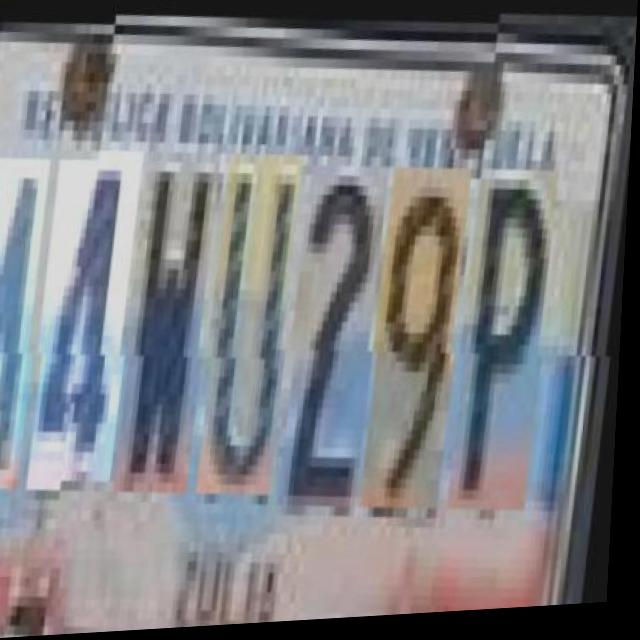2: (290, 159, 399, 507)
4: (40, 145, 152, 483)
9: (372, 161, 481, 509)
m: (0, 144, 60, 480)
p: (459, 172, 568, 520)
u: (208, 149, 313, 496)
w: (126, 147, 230, 495)
